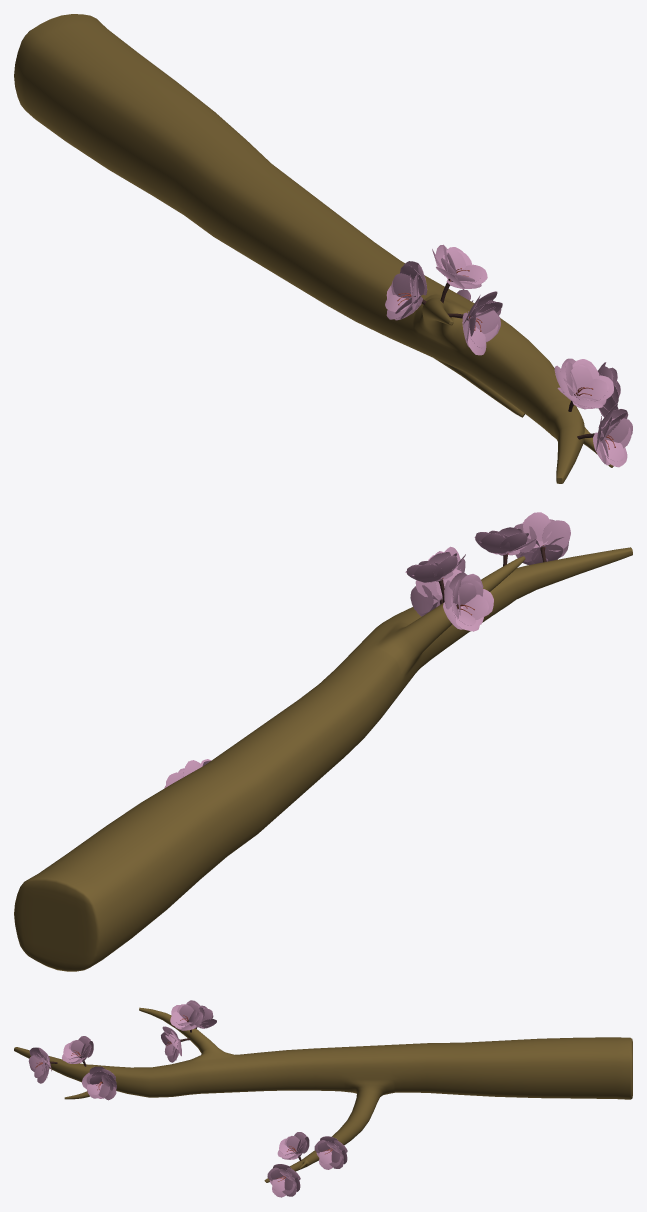
File: Branch_Spring.fbx
The picture shows the model from 3 angles, top to bottom: view 1: azimuth 30°, elevation 25°; view 2: azimuth 150°, elevation 25°; view 3: azimuth 270°, elevation 25°; orthographic projection. The views are drawn at different scales.
Visible parts, largest first — view 1: pCube5, pPlane160; view 2: pCube5, pPlane160; view 3: pCube5, pPlane160.
Boxes of the visible parts, x1=… form: pCube5: x1=14, y1=14, x2=613, y2=483; pPlane160: x1=385, y1=244, x2=632, y2=467; pCube5: x1=14, y1=547, x2=632, y2=971; pPlane160: x1=164, y1=512, x2=570, y2=788; pCube5: x1=14, y1=1007, x2=632, y2=1182; pPlane160: x1=28, y1=1000, x2=347, y2=1197.
Bounding box in the file's own units: 5.73 × 6.18 × 23.42.
